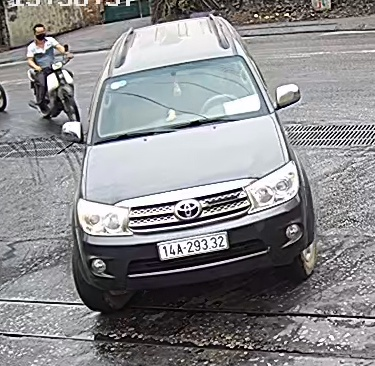vehicle plate: (155, 232, 231, 266)
